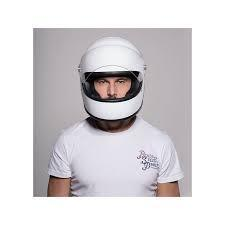helmet: (79, 36, 146, 123)
